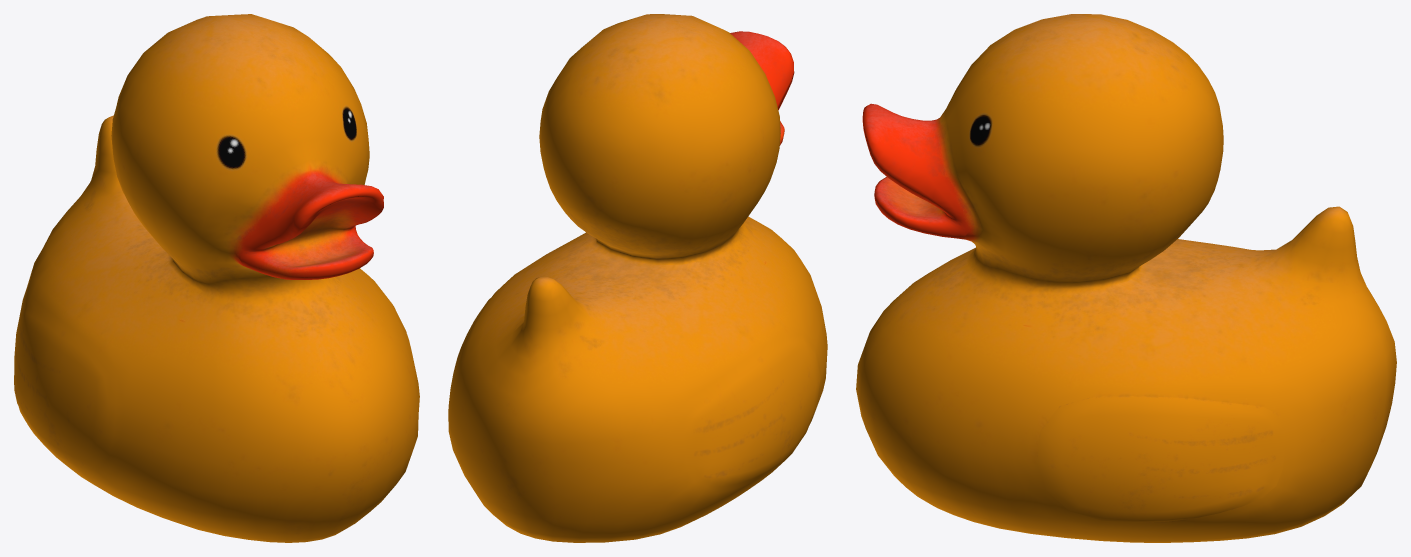
The model's file is rubber_duck_toy.glb.
3 views of the same model, side by side, from view 1: azimuth 30°, elevation 25°; view 2: azimuth 150°, elevation 25°; view 3: azimuth 270°, elevation 25° (orthographic). The views are drawn at different scales.
Parts seen in each view (by area): view 1: rubber_duck_toy; view 2: rubber_duck_toy; view 3: rubber_duck_toy.
Part boxes in pixels (x1,y1,x2,y2): rubber_duck_toy: (14, 14, 419, 542); rubber_duck_toy: (448, 14, 827, 542); rubber_duck_toy: (856, 14, 1396, 542).
Size of the model in its own units: 0.2135 by 0.2855 by 0.3.
1 material, 1 textured.
